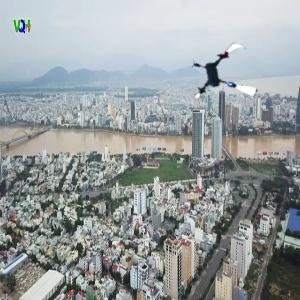drone: (188, 37, 263, 112)
